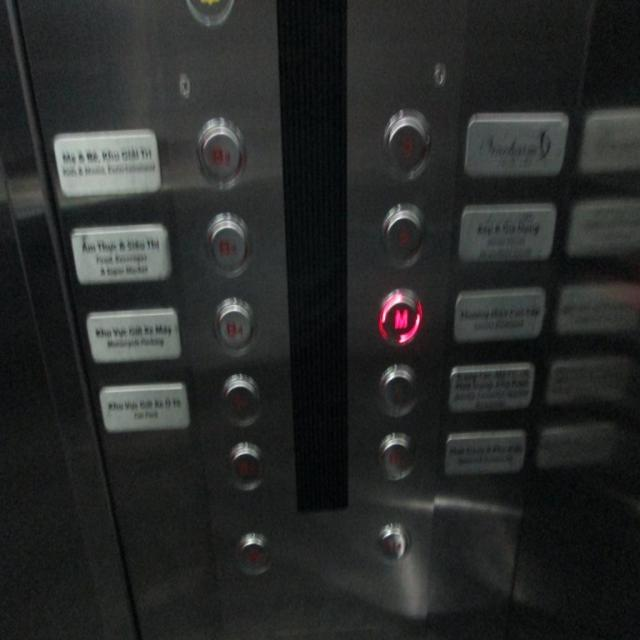B2: (193, 115, 246, 188)
B3: (202, 211, 251, 275)
B4: (210, 294, 253, 354)
M: (377, 288, 422, 346)
blur: (380, 109, 432, 179), (378, 202, 425, 266), (218, 372, 260, 427), (377, 362, 418, 415), (224, 441, 264, 491), (376, 432, 416, 480), (234, 533, 270, 574)
close: (374, 520, 412, 562)
